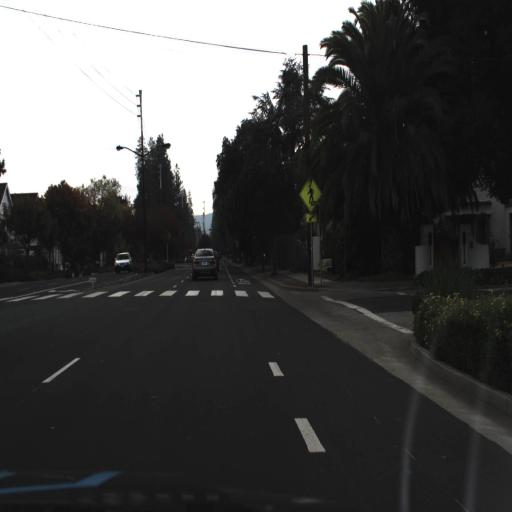car: (183, 234, 220, 293), (114, 247, 133, 272), (212, 241, 220, 272)
